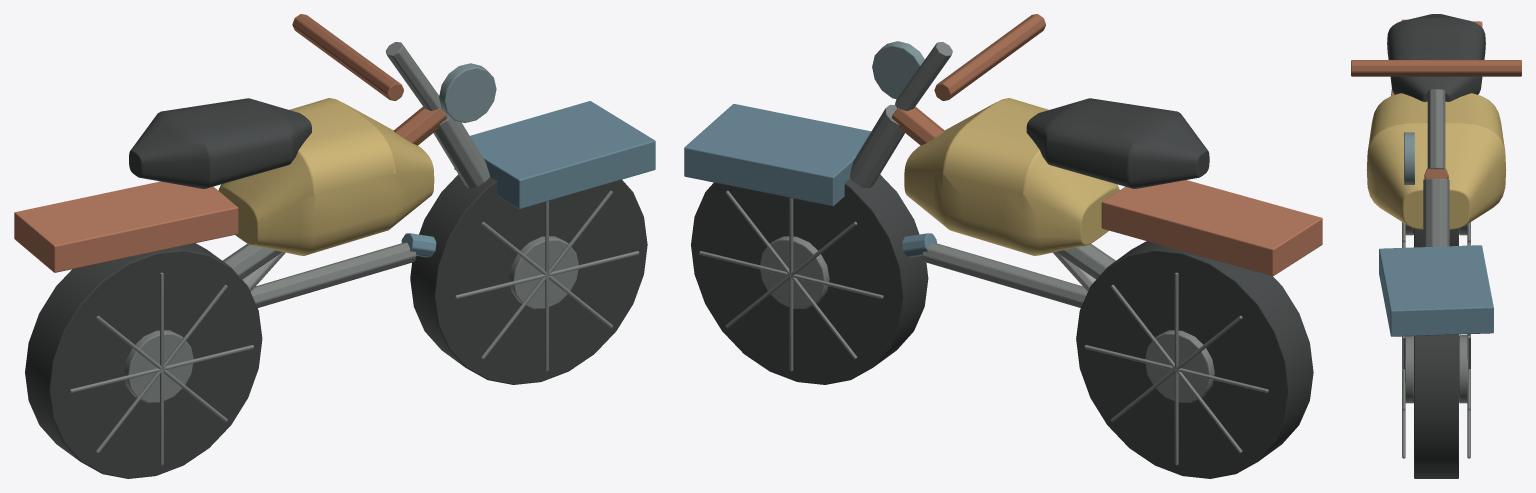
Rendered from Apoc_Motorcycle_03_Abandoned_Dirt_Bike.fbx.
The picture shows the model from 3 angles, left to right: view 1: azimuth 30°, elevation 25°; view 2: azimuth 150°, elevation 25°; view 3: azimuth 270°, elevation 25°; orthographic projection. The views are drawn at different scales.
Parts seen in each view (by area): view 1: Apoc_Motorcycle_03_Abandoned_Dirt_Bike; view 2: Apoc_Motorcycle_03_Abandoned_Dirt_Bike; view 3: Apoc_Motorcycle_03_Abandoned_Dirt_Bike.
Part boxes in pixels (<box>): Apoc_Motorcycle_03_Abandoned_Dirt_Bike: <box>14,14,655,478</box>; Apoc_Motorcycle_03_Abandoned_Dirt_Bike: <box>684,14,1322,478</box>; Apoc_Motorcycle_03_Abandoned_Dirt_Bike: <box>1351,14,1521,478</box>.
Size of the model in its own units: 2.76 by 1.62 by 0.76.
